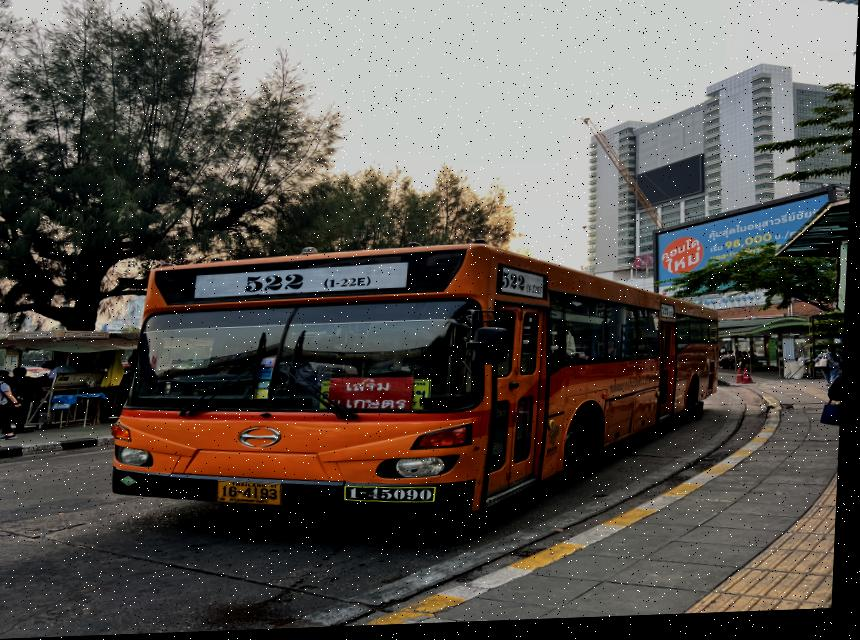BMTA-bus: (113, 249, 724, 524)
Bus Line Number: (244, 271, 383, 295)
Bus Side Number: (347, 486, 447, 509)
Destination Sign: (332, 379, 415, 415)
